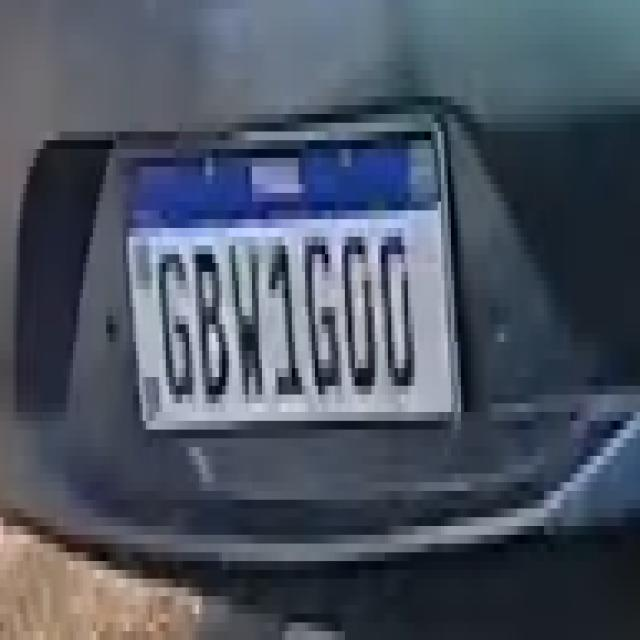Placa_mercosul_carro: (115, 113, 461, 440)
